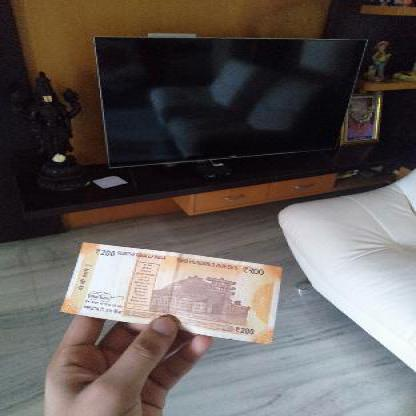New200Back: (65, 243, 279, 341)
